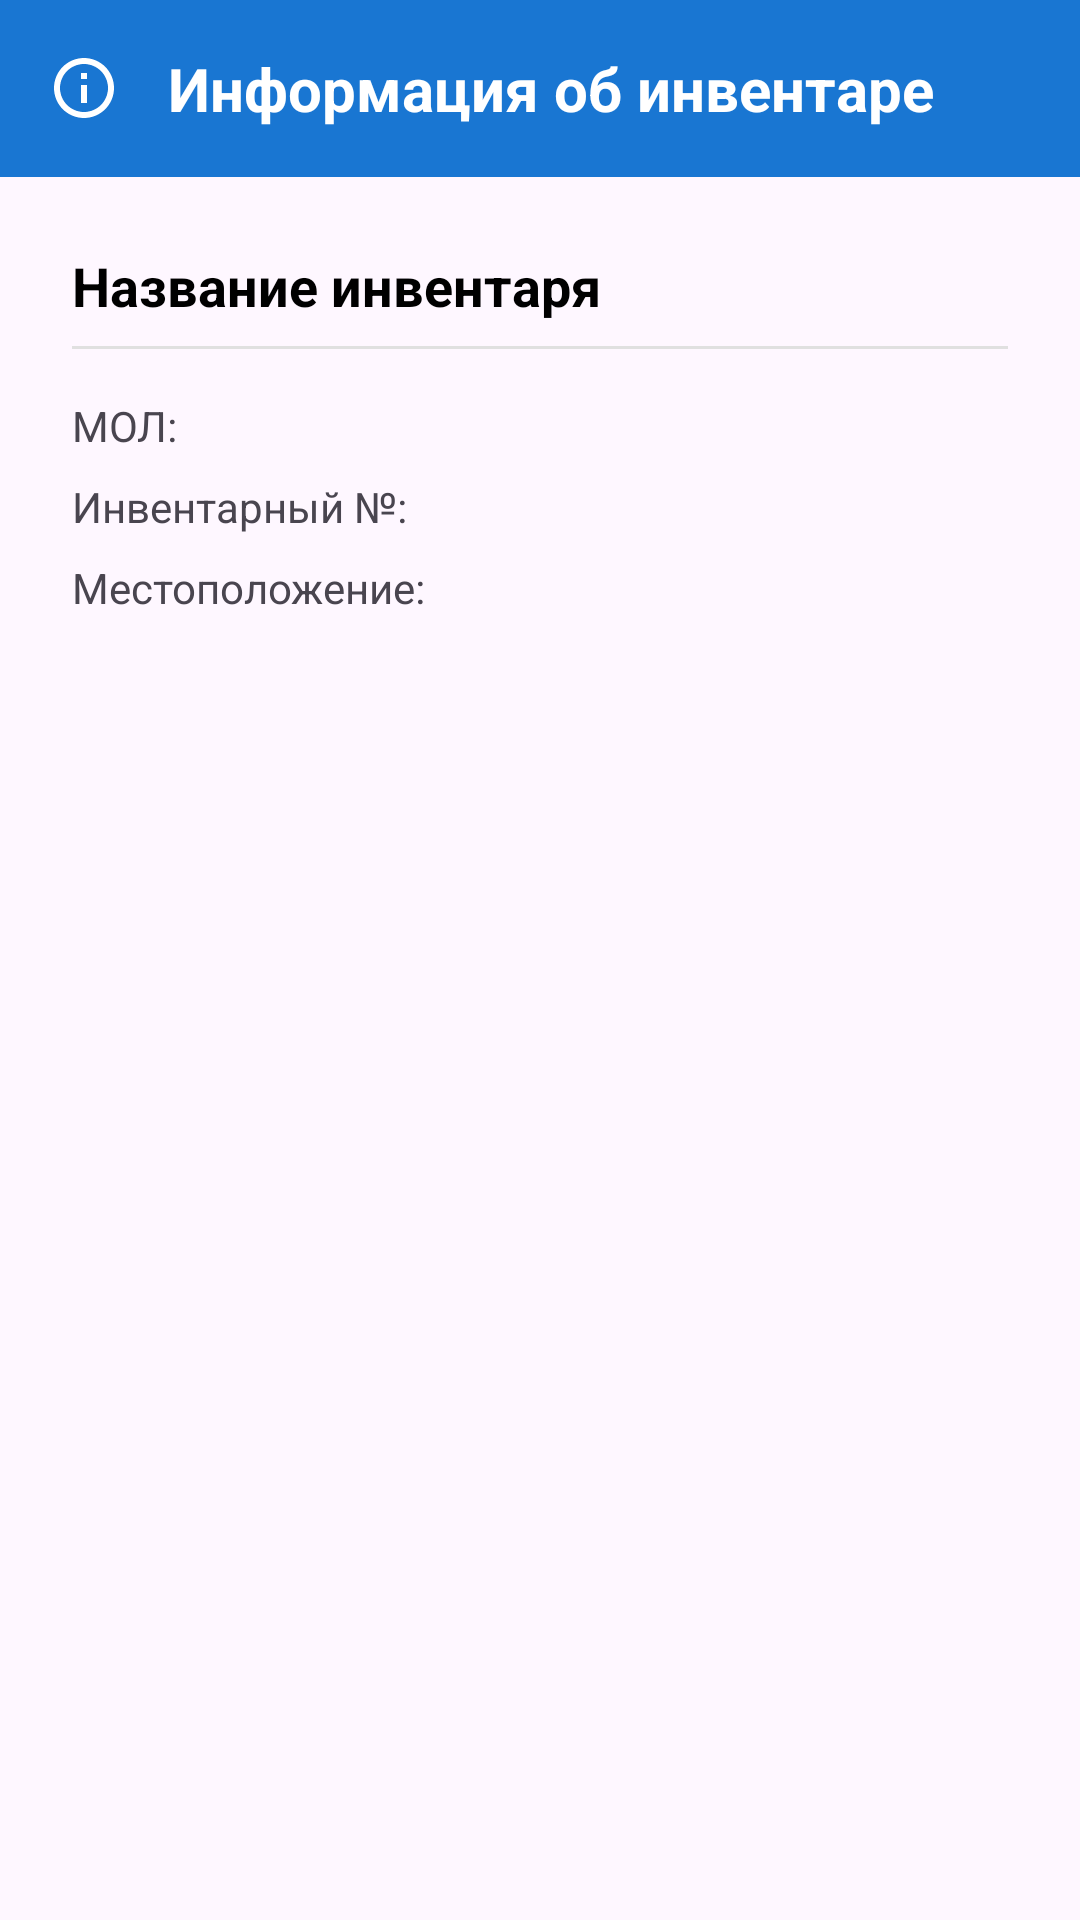

Screen size 1080w x 1920h. Icon name, then its box in pixels as (x1, y1, x2, y2):
info: (54, 58, 114, 118)
